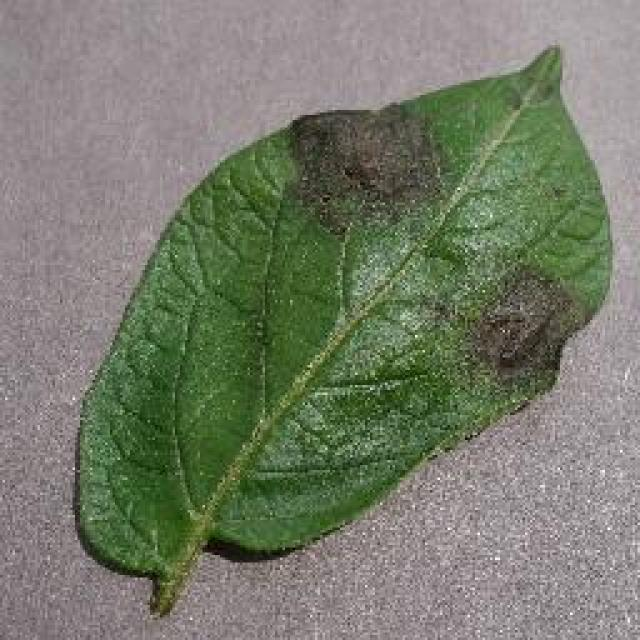late_blight: (68, 40, 618, 618)
